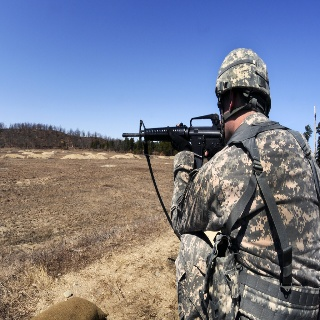rifle: (121, 113, 228, 172)
